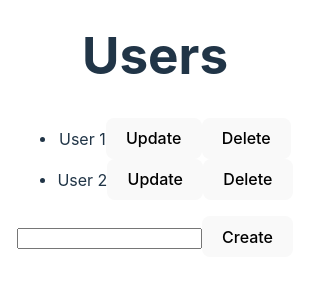
Test: App › should display new user
In the field: (109, 238) left=17, top=228, right=202, bottom=249, type "User 3"
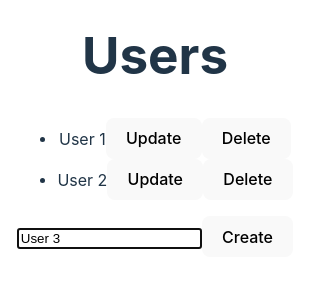
Click the button "Create": click(247, 237) left=202, top=216, right=293, bottom=257
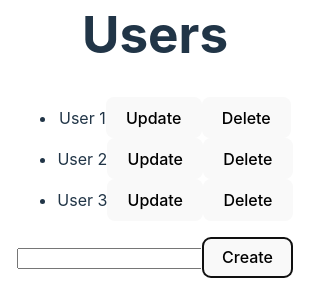
Expected: the text "User 3" is shown, left=57, top=190, right=107, bottom=210
